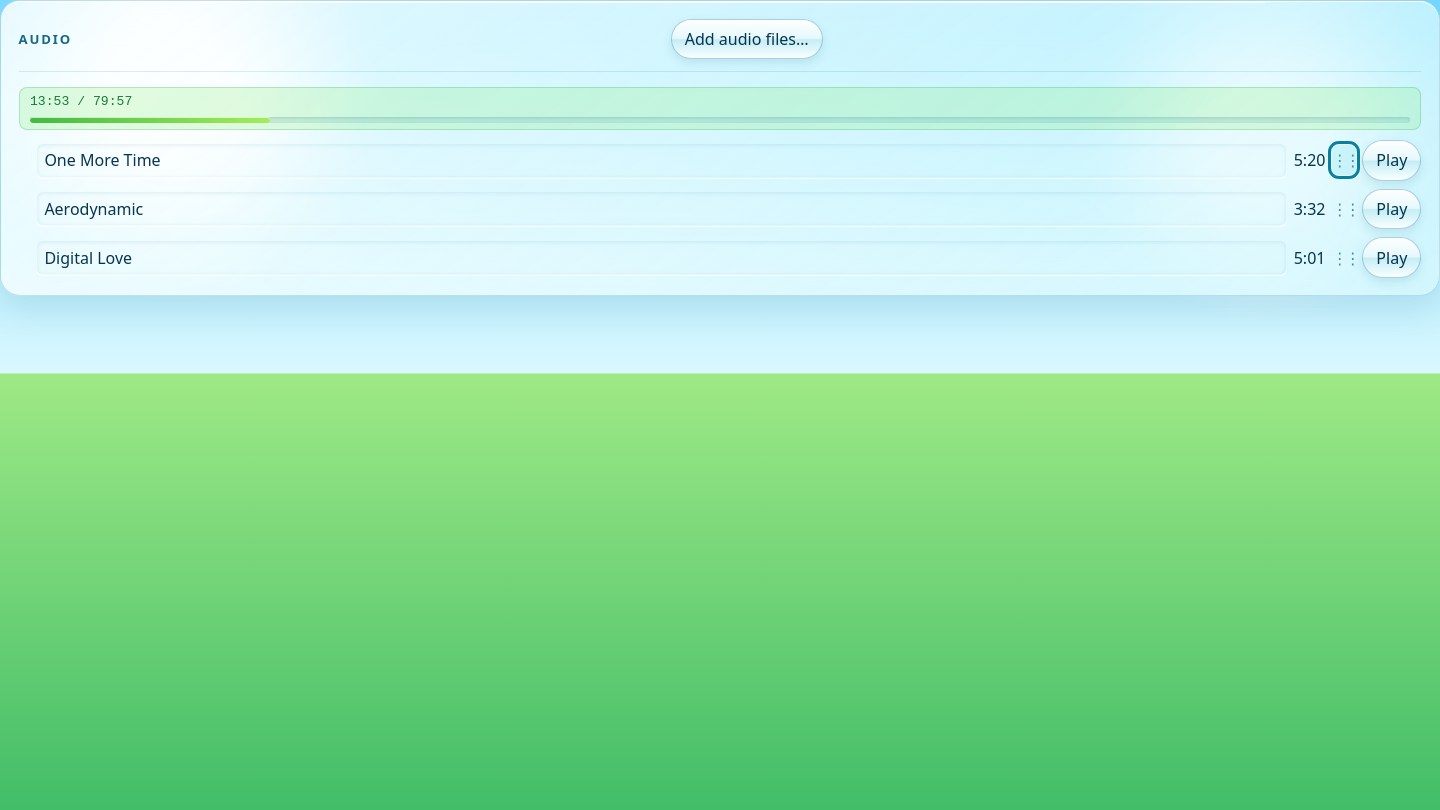
Test: audio › ArrowUp on the first handle does not steal focus from a title input later
The image size is (1440, 810).
Press Arrowup
Expected: the field named "Edit title for track 1" holds "One More Time", [36, 143, 1287, 178]
Click the field named "Edit title for track 2" at (662, 209), box [36, 192, 1287, 226]
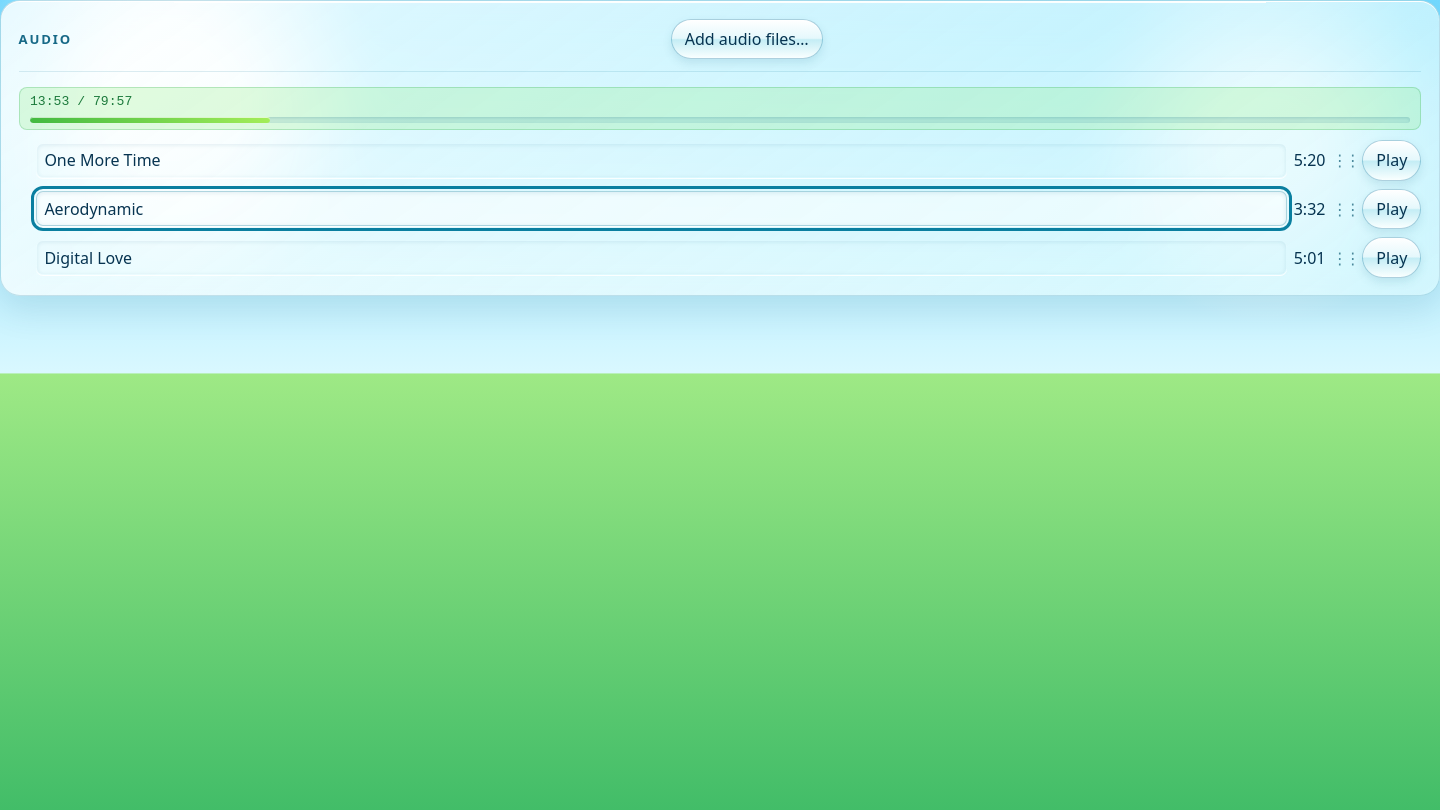
Type keys "XY"
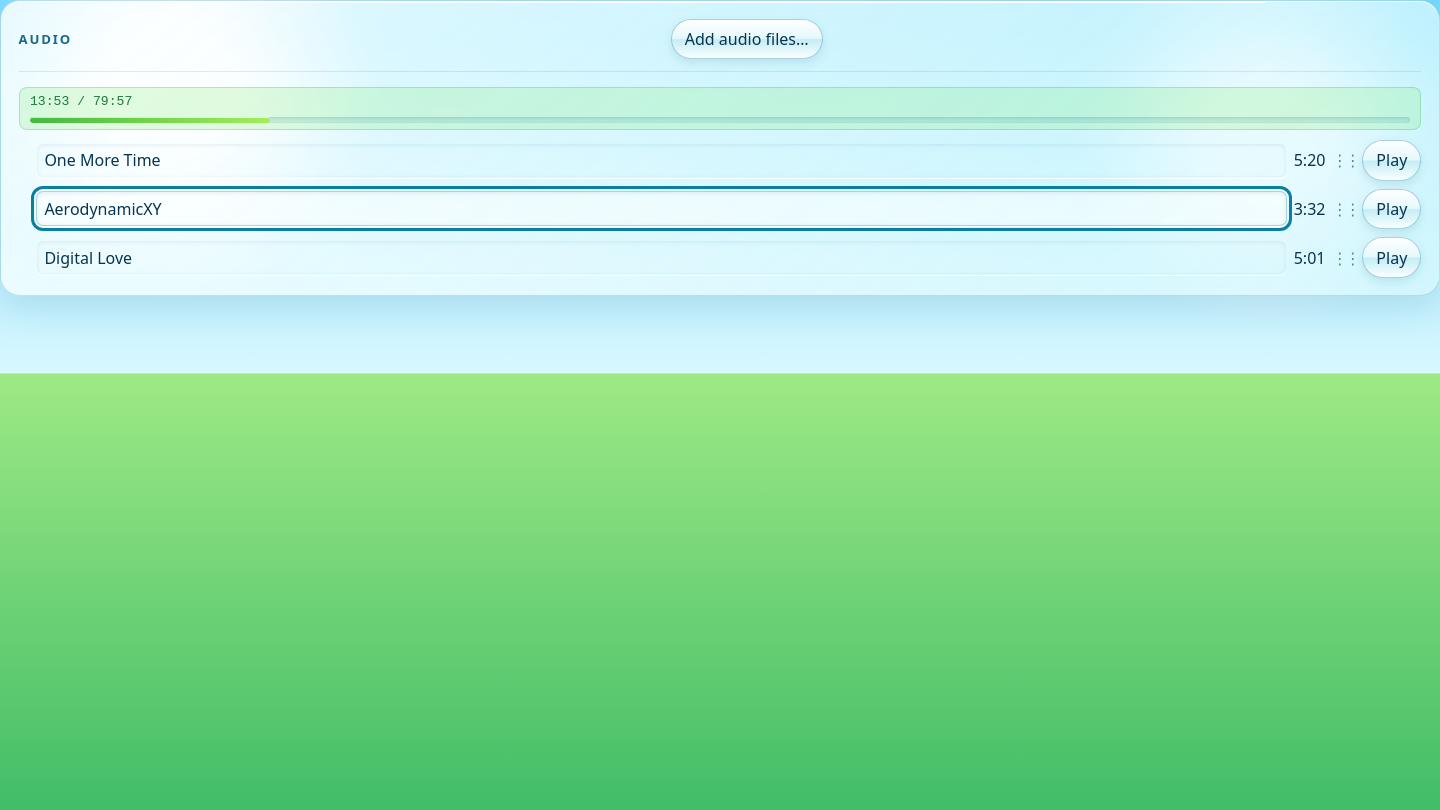
Now the field named "Edit title for track 2" holds "AerodynamicXY", box [36, 192, 1287, 226]
